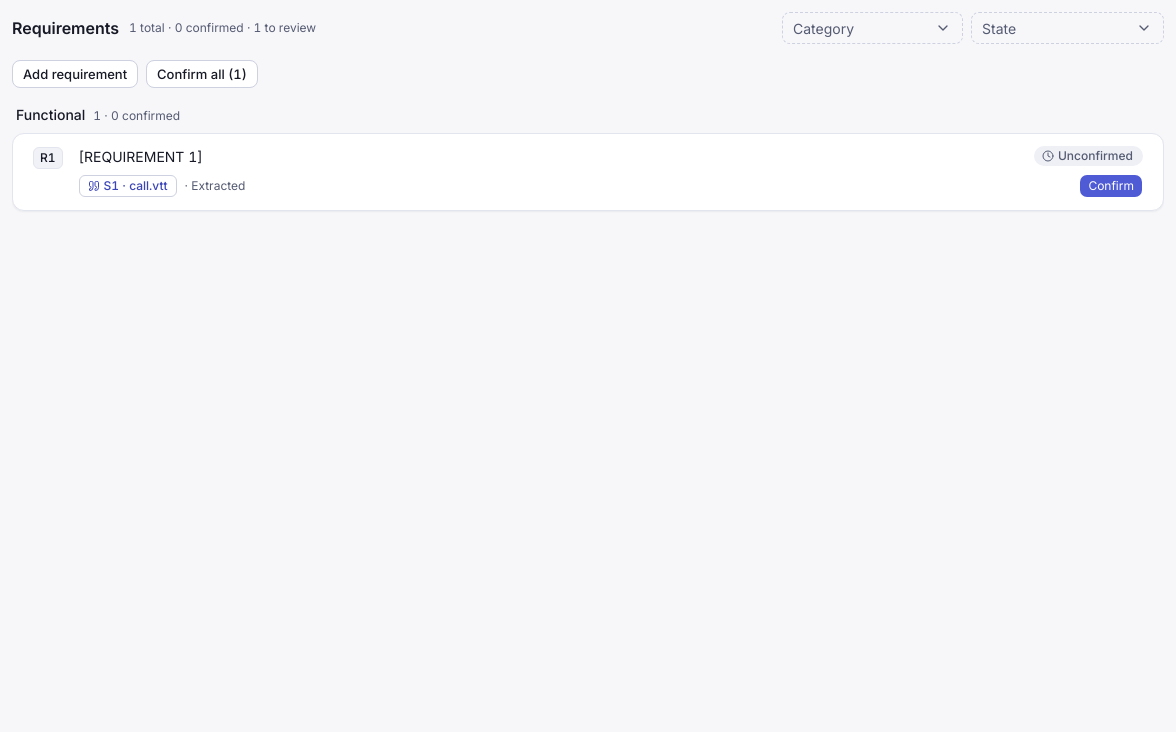
Test: adding a Requirement › c opens the form; Enter adds it as a Requirement added by a person
The width and height of the screenshot is (1176, 732).
Type keys "c"
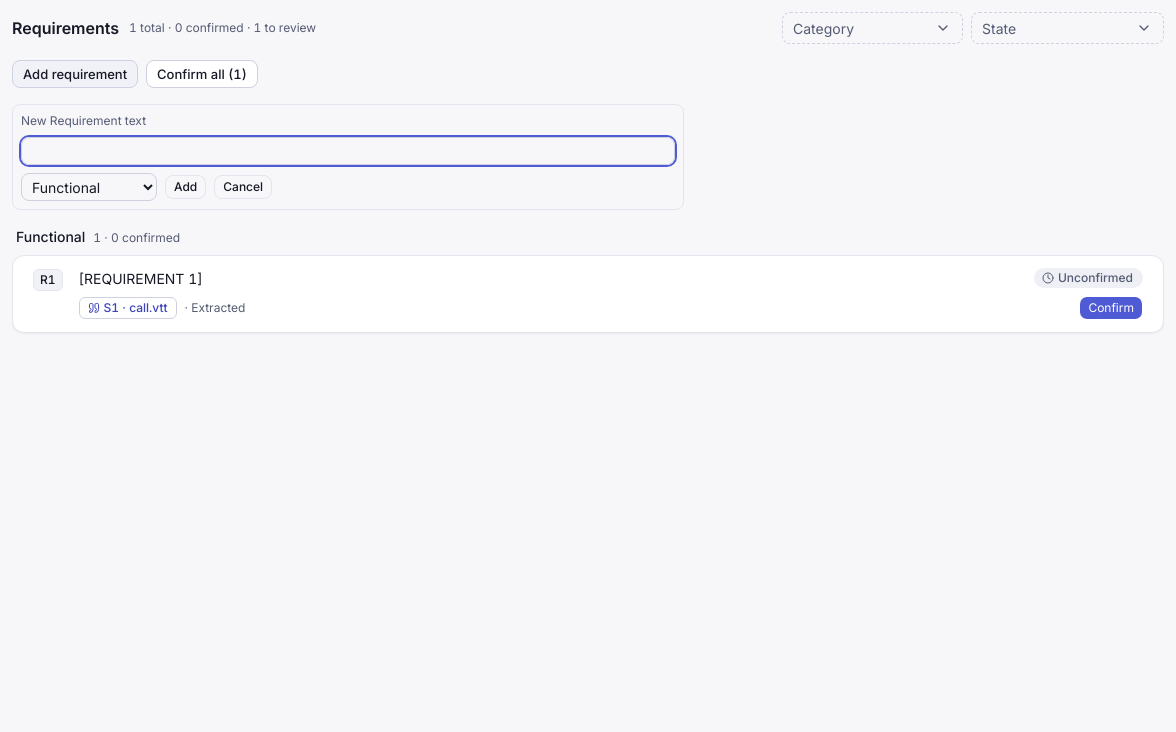
Select "Security" in the dropdown named "New Requirement classification": [89, 187] box [21,173,157,201]
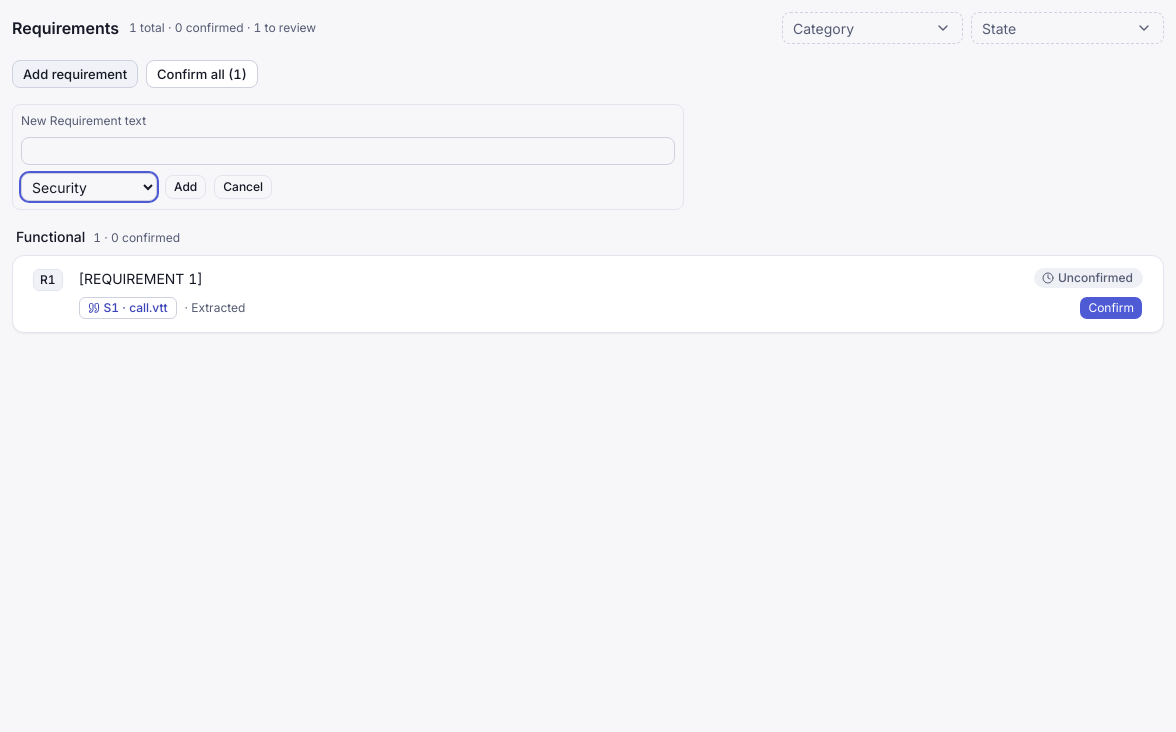
In the field labelled "New Requirement text": [348, 151] box [21,137,675,165], type "  Support returns. "
Then press Enter
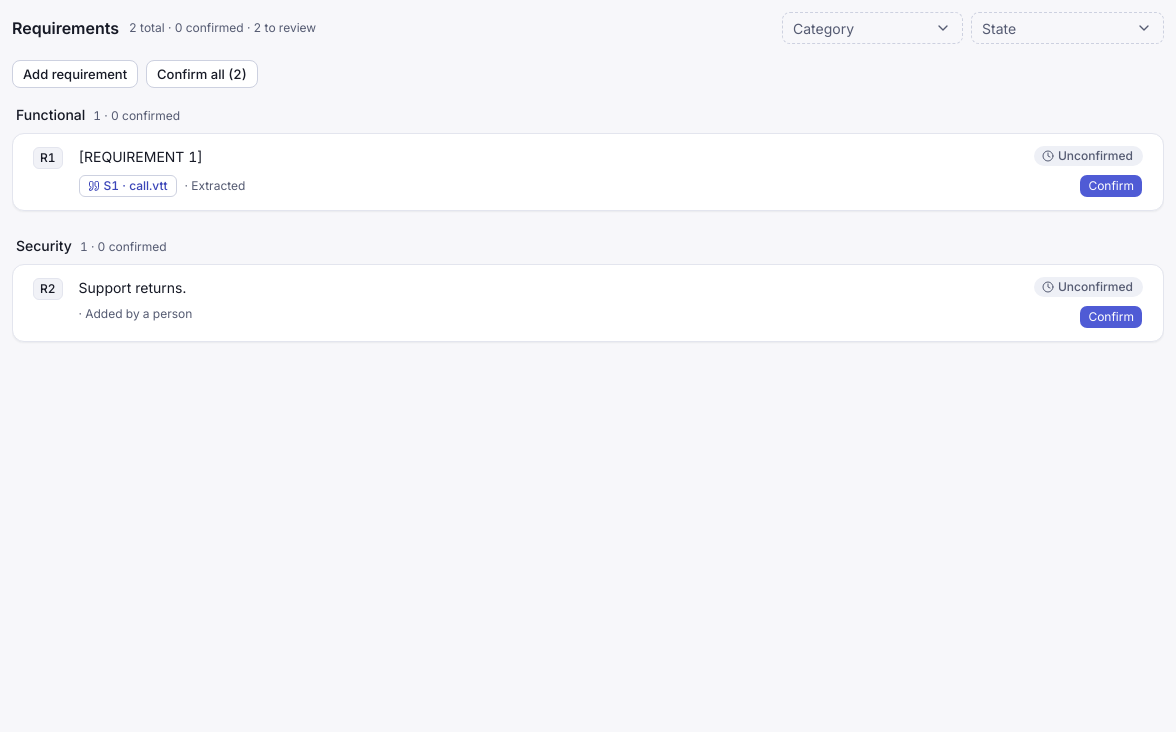
Result: the text "R2" is shown at [33,278,63,300]
Result: the text "· Added by a person" is shown at [79,306,192,322]
Result: the label "New Requirement" is gone
Click the button "Support returns.": [132, 288] box [79,277,1018,298]
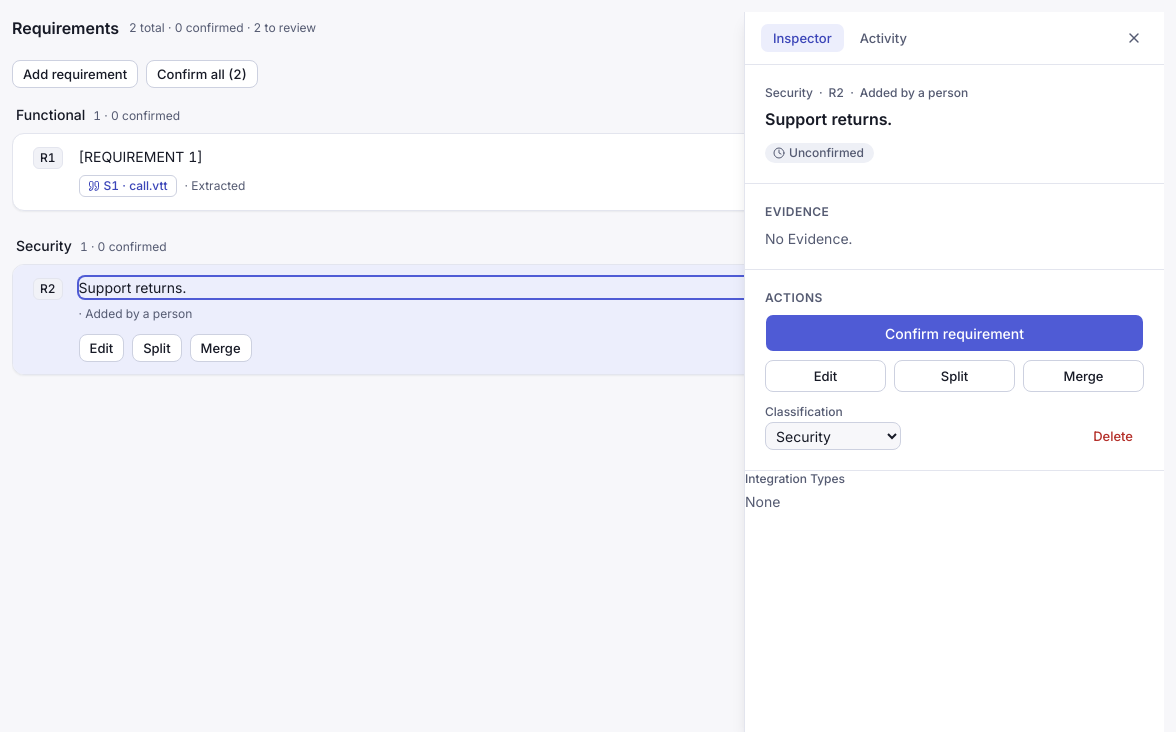
Result: the text "Added by a person" is shown at [860,85,968,101]
Result: the text "No Evidence." is shown at [765,230,852,247]
